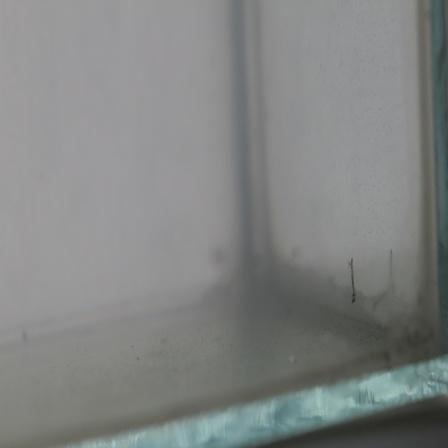Jentik-Nyamuk: (345, 256, 361, 307)
